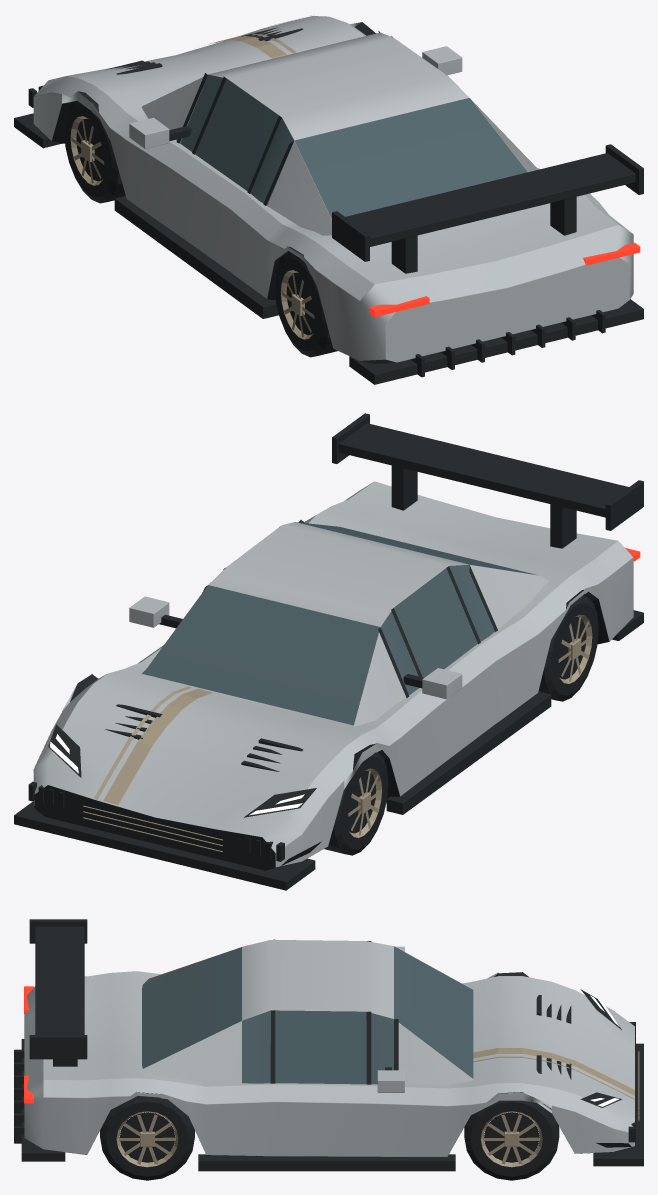
File: apex-grid-gt.glb
3 renders of one model, top to bottom at view 1: azimuth 30°, elevation 25°; view 2: azimuth 150°, elevation 25°; view 3: azimuth 270°, elevation 25°, orthographic. The views are drawn at different scales.
Parts seen in each view (by area): view 1: APEX GT coupe; view 2: APEX GT coupe; view 3: APEX GT coupe.
Part boxes in pixels (left/top/right/bottom): APEX GT coupe: left=14, top=16, right=643, bottom=384; APEX GT coupe: left=14, top=413, right=643, bottom=890; APEX GT coupe: left=14, top=919, right=643, bottom=1180.
Size of the model in its own units: 2.32 by 1.2 by 4.6.
